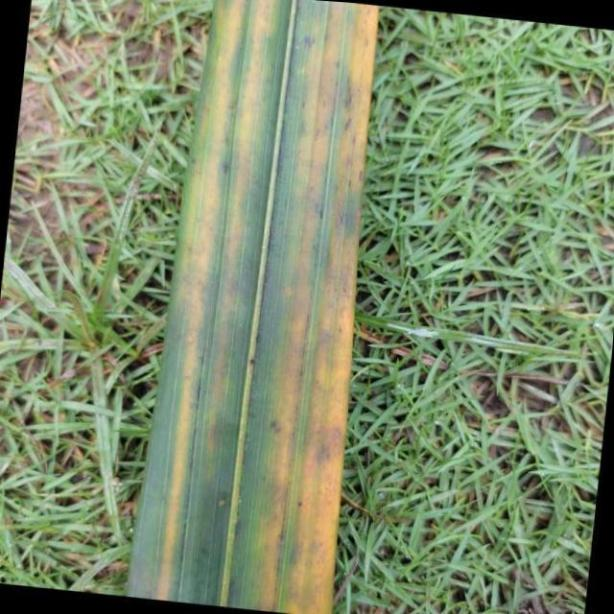Megnesium: (126, 0, 379, 614)
